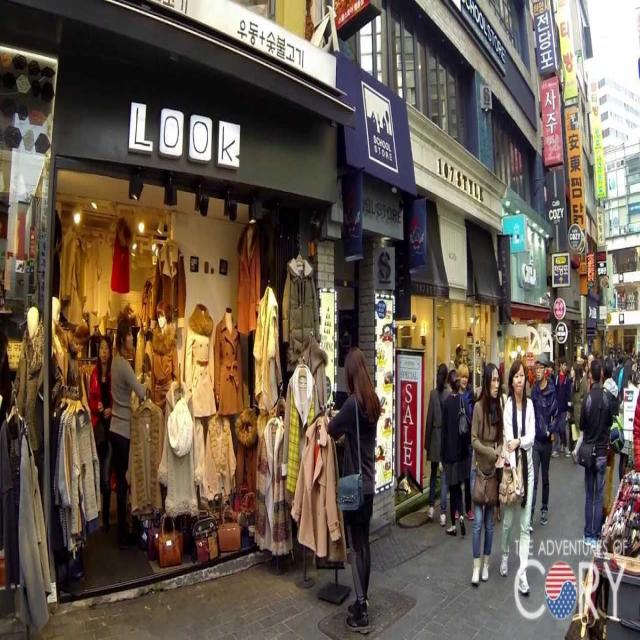body: (323, 342, 380, 638), (10, 290, 70, 454), (108, 318, 150, 550), (498, 357, 537, 600), (468, 362, 504, 588), (577, 360, 613, 549), (528, 351, 560, 533), (437, 368, 471, 538), (88, 333, 114, 538), (423, 362, 452, 528), (148, 292, 182, 417), (454, 362, 476, 522), (601, 357, 620, 519), (548, 353, 572, 460), (569, 350, 591, 463), (610, 342, 640, 383), (614, 284, 638, 312), (609, 250, 637, 272), (546, 360, 558, 383), (452, 340, 463, 362), (526, 362, 534, 391)
